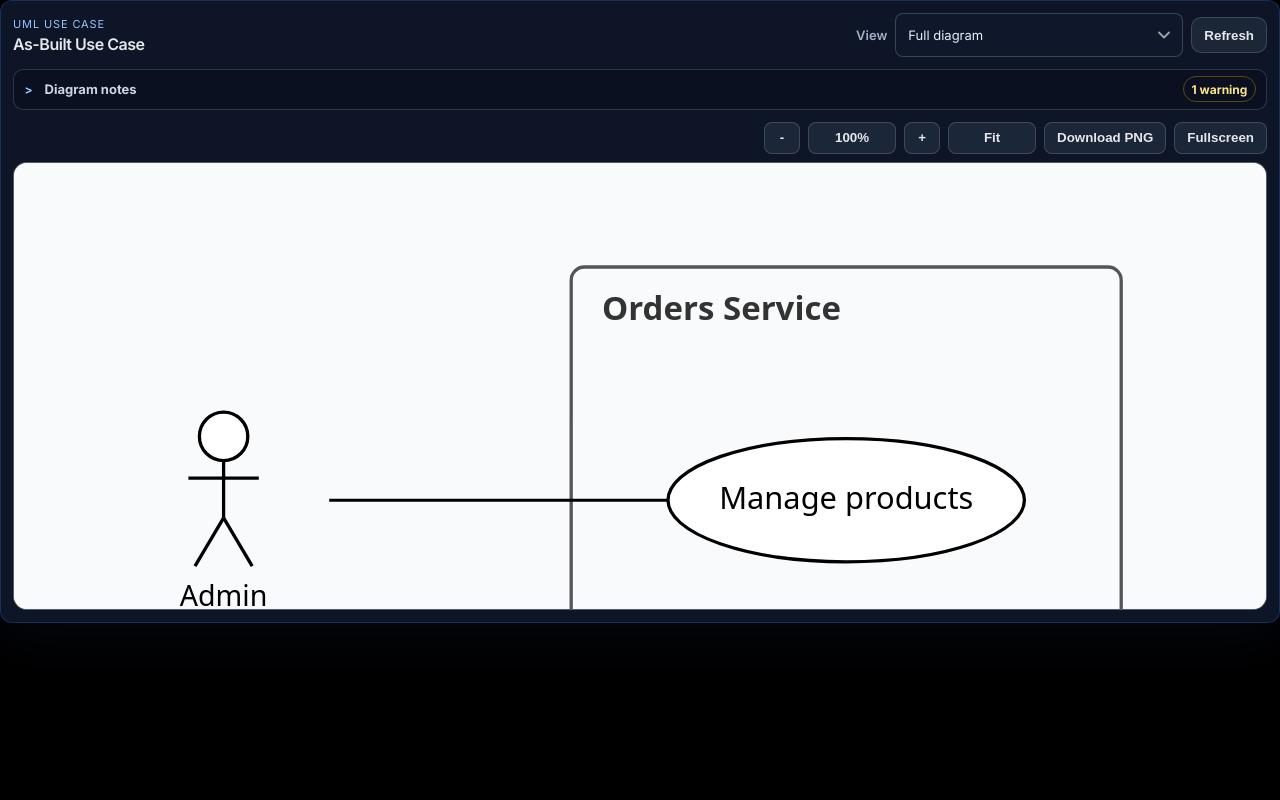
it: DiagramPanel › offers per-actor/per-domain views and switches the rendered projection client-side
# Switching to the Order domain view redraws only that projection's goal — client-side, no refetch.
What coordinates should you click on to do the following:
click the button with id "diagram-view-select"
I would click on:
 (946, 35)
Its box is [895,13,1183,57].
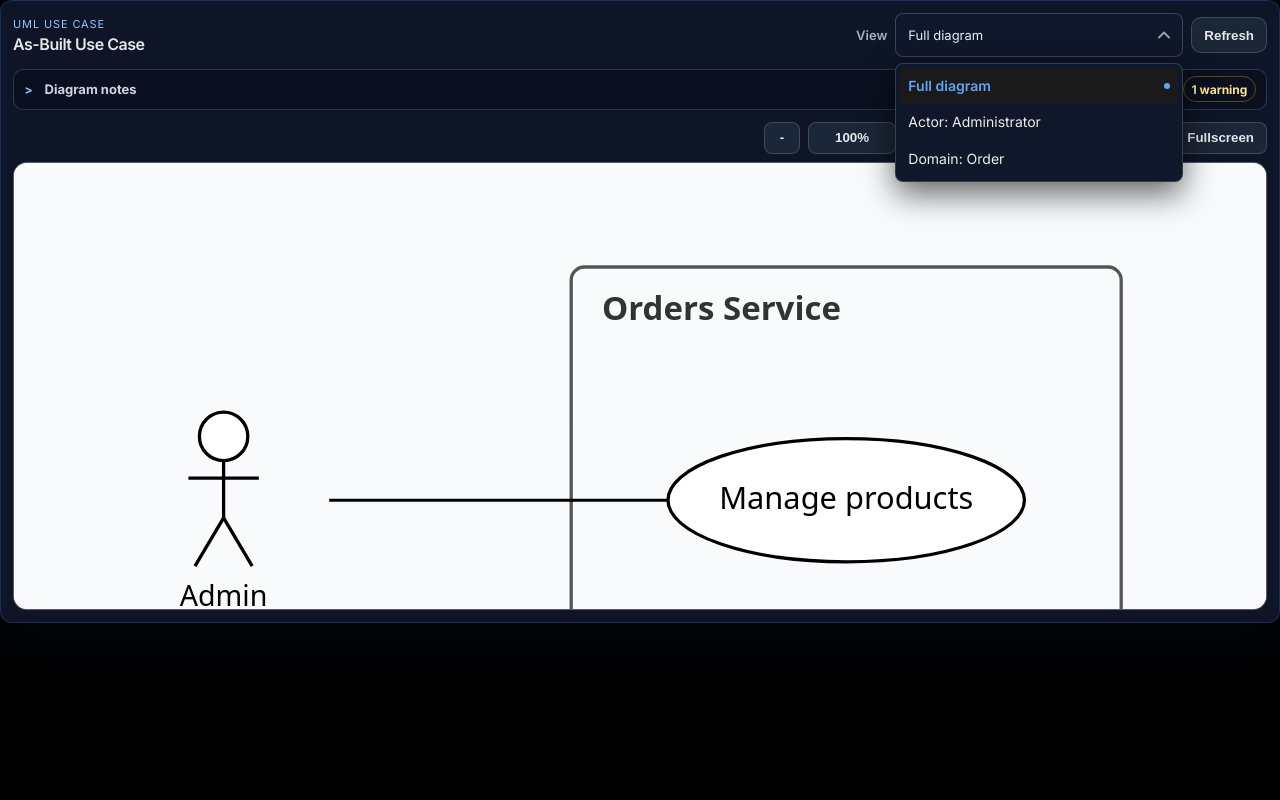
What coordinates should you click on to do the following:
click the option "Domain: Order"
I would click on:
 (956, 158)
Its box is [908,150,1004,167].
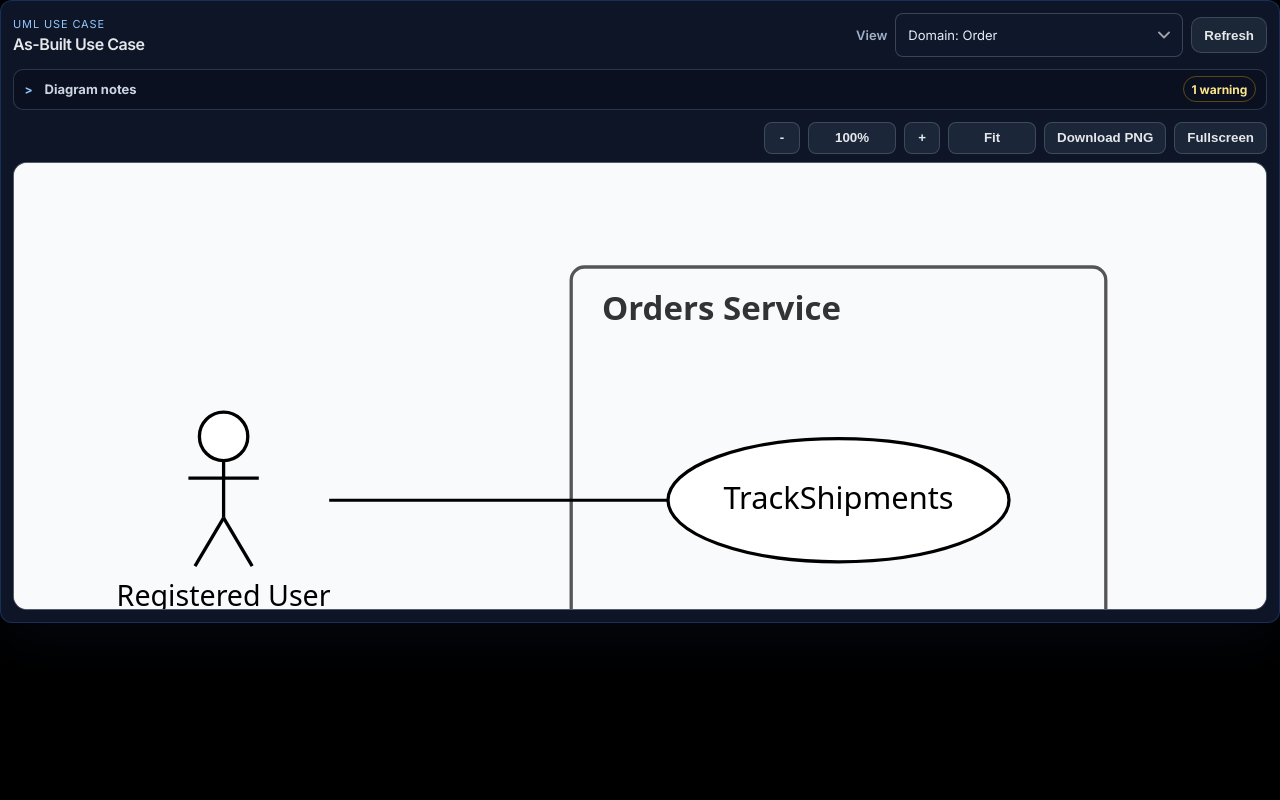
Expected: the text "TrackShipments" is shown, [724,476,954,518]
